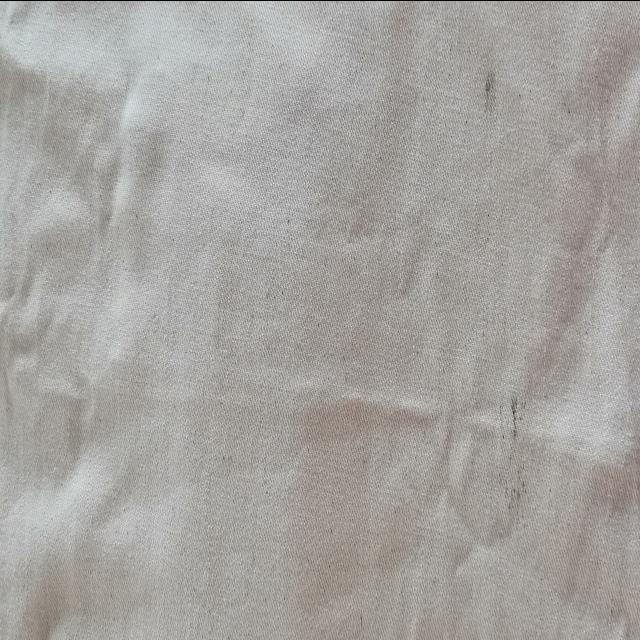taaaches: (499, 374, 536, 526), (465, 42, 514, 143)
